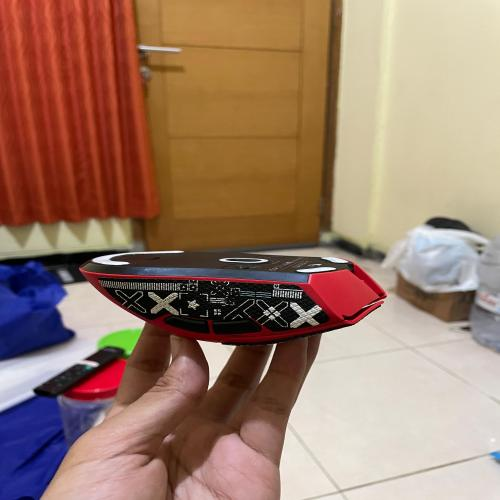Mouse: (65, 234, 412, 360)
